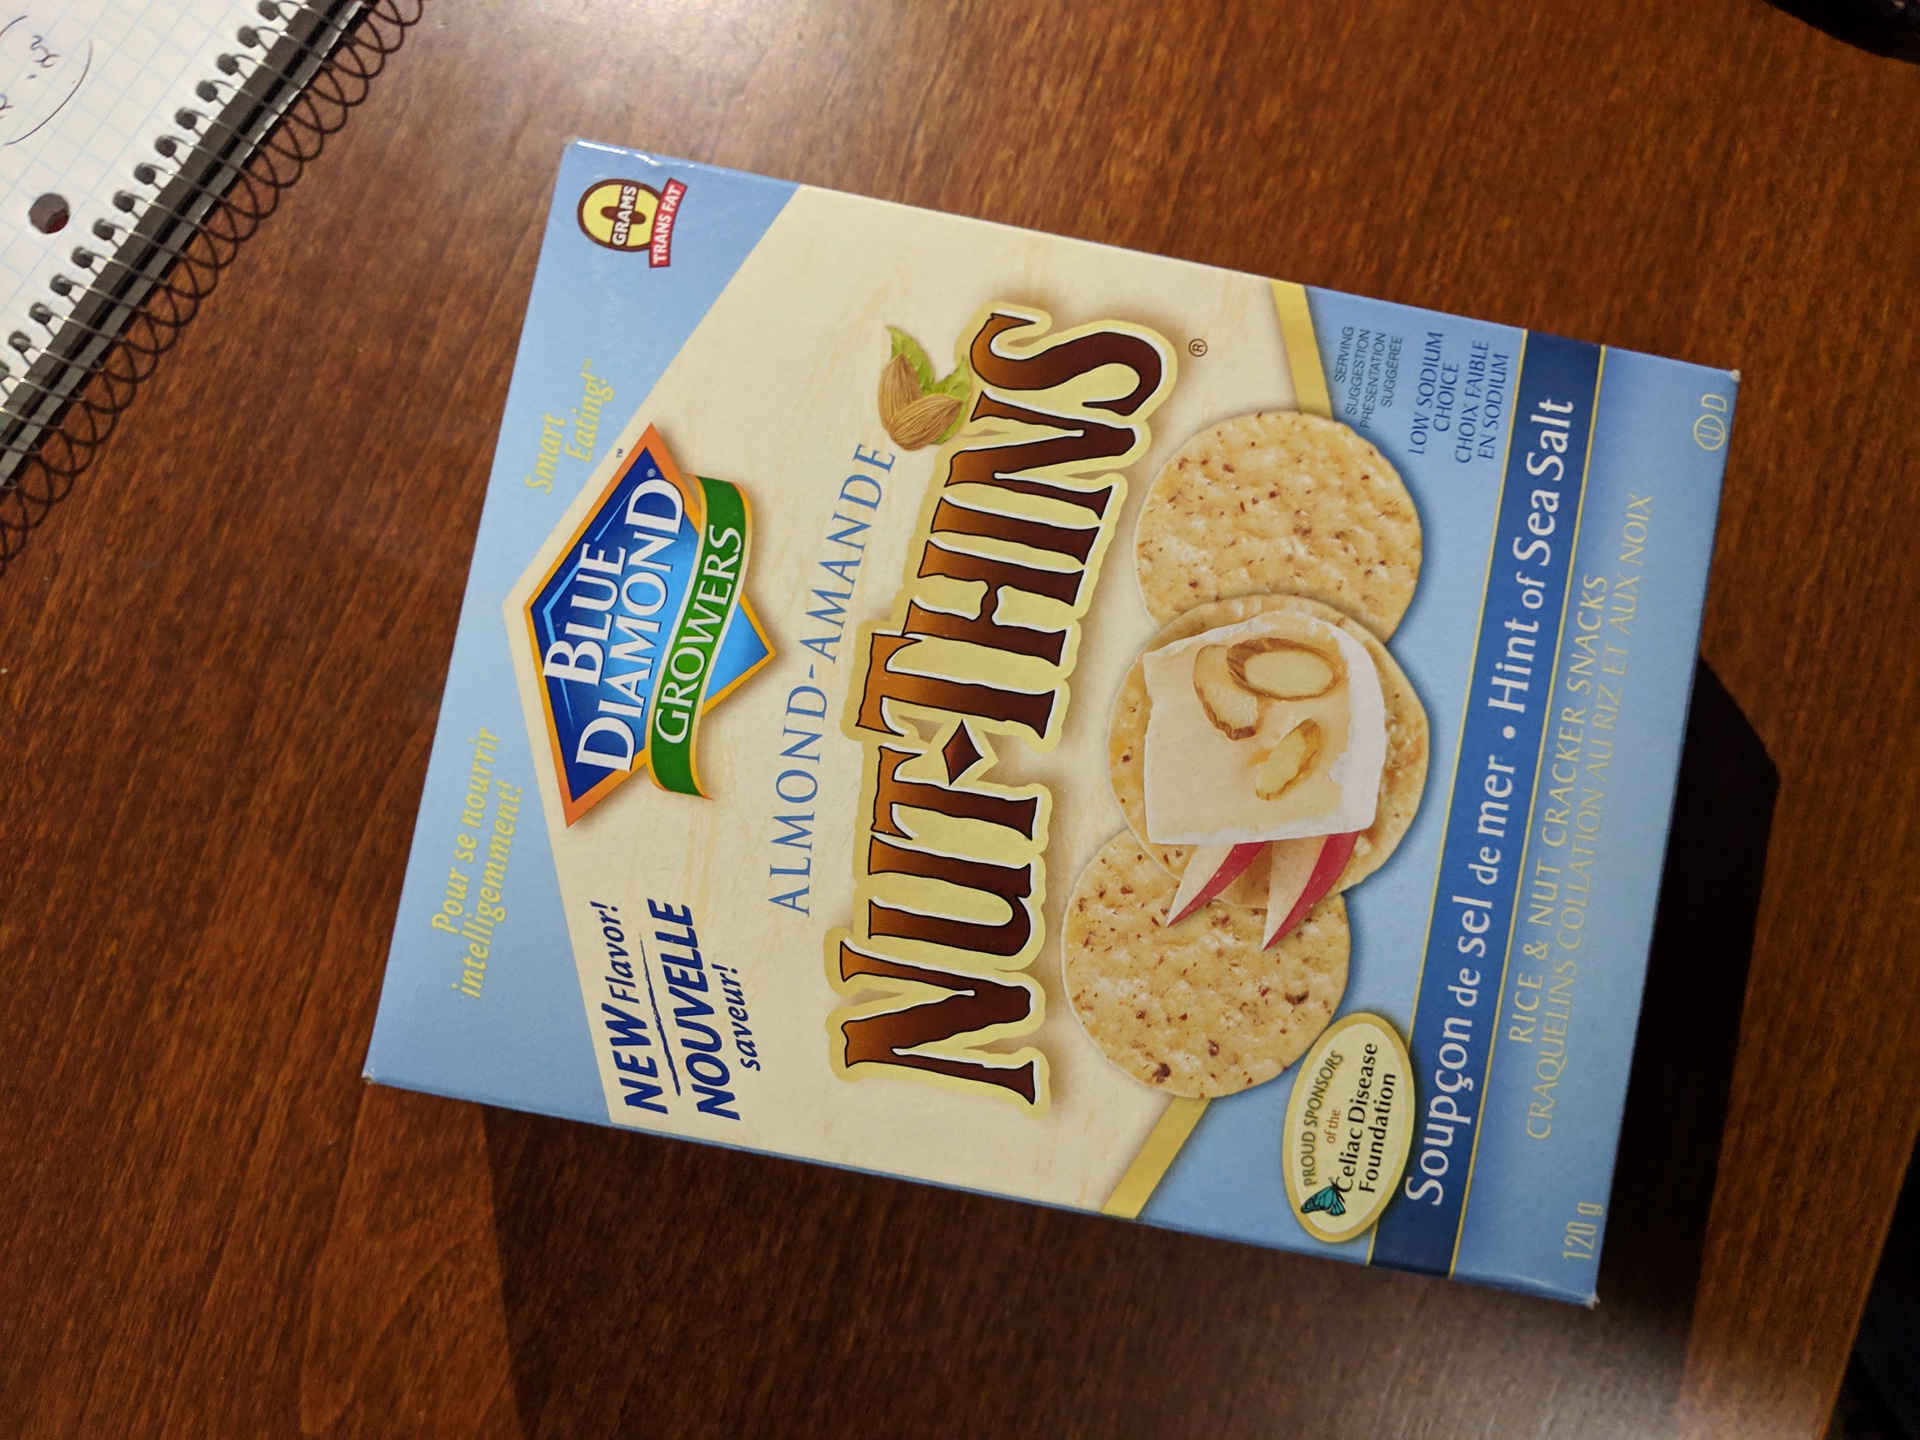blue_diamond_nut_thins_almond_seasalt: (516, 352, 1628, 1074)
